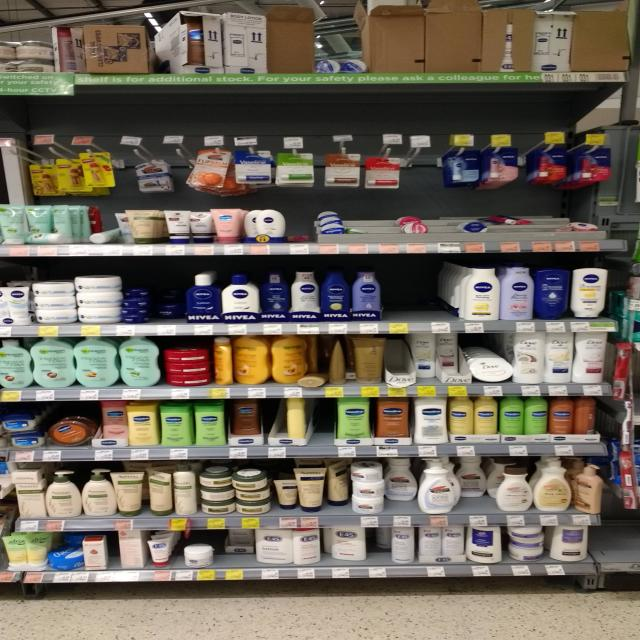void: (386, 254, 422, 334), (423, 256, 459, 334), (599, 512, 637, 572), (290, 207, 318, 254)
